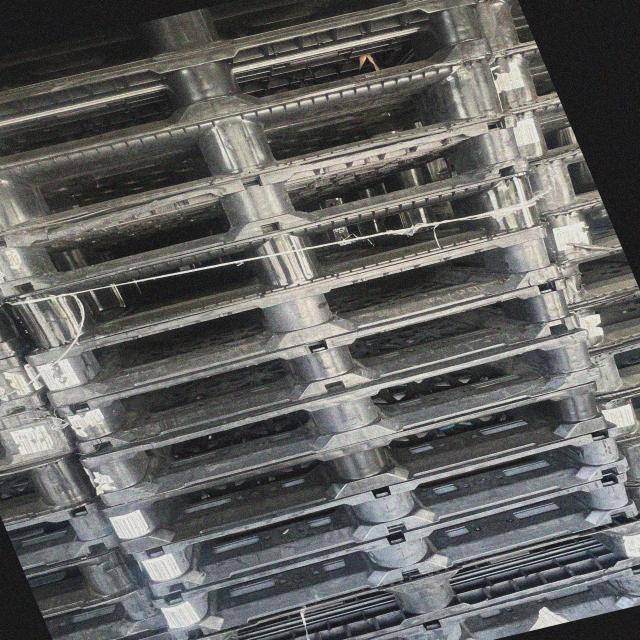igps: (18, 206, 580, 415), (0, 162, 550, 361), (0, 105, 536, 305), (73, 317, 607, 511), (0, 49, 515, 242), (52, 275, 586, 461), (96, 374, 614, 558), (128, 422, 636, 600), (0, 0, 500, 177), (145, 464, 639, 640), (192, 516, 640, 640), (0, 0, 421, 99), (339, 562, 640, 640), (24, 532, 148, 622), (3, 497, 125, 581), (0, 452, 99, 530), (42, 582, 172, 640), (534, 197, 626, 268), (520, 145, 604, 219), (0, 401, 80, 475), (503, 94, 583, 167), (552, 246, 640, 311), (563, 284, 640, 354), (487, 42, 560, 114), (467, 0, 540, 57), (0, 352, 56, 422), (584, 333, 640, 398), (591, 384, 640, 445), (612, 430, 640, 490)
